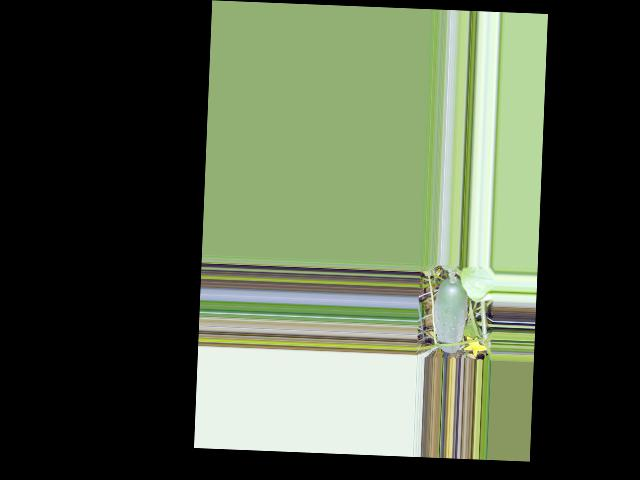cucumber: (432, 275, 468, 352)
